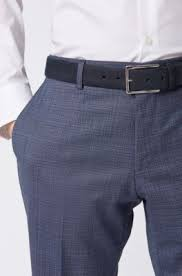F_belt: (37, 48, 182, 103)
F_dress pants: (11, 57, 182, 275)
